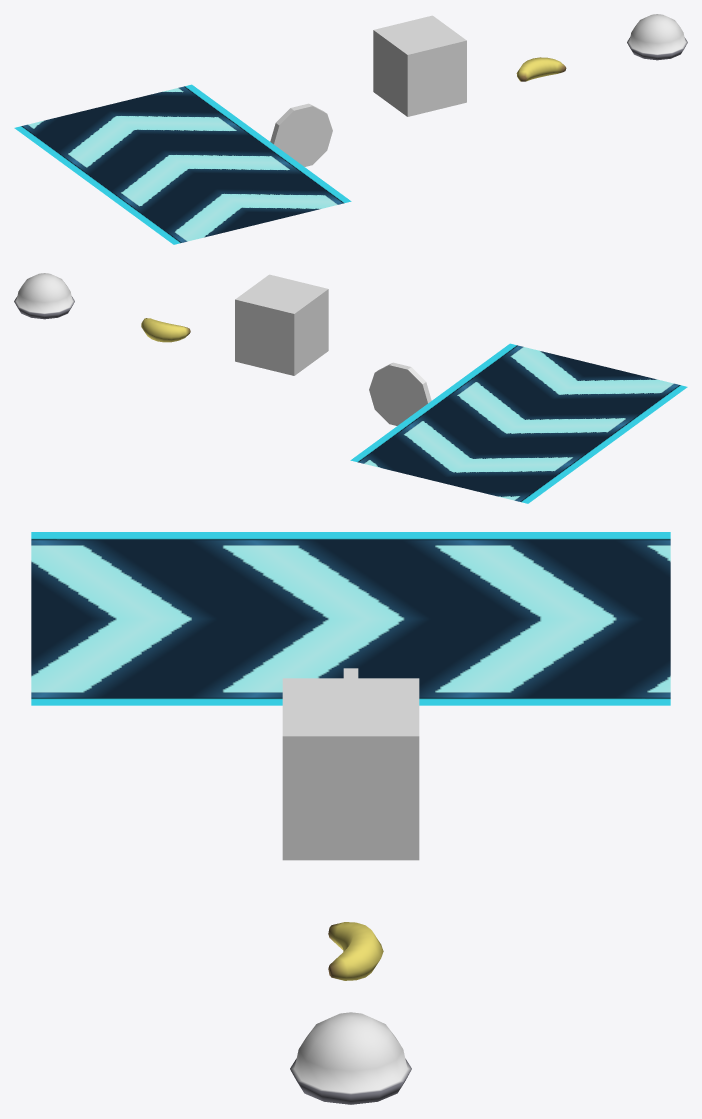
Rendered from pickups.glb.
3 renders of one model, top to bottom at view 1: azimuth 30°, elevation 25°; view 2: azimuth 150°, elevation 25°; view 3: azimuth 270°, elevation 25°, orthographic. The views are drawn at different scales.
Visible parts, largest first — view 1: BoostPad, ItemBox, Coin, Orb, Banana; view 2: BoostPad, ItemBox, Coin, Orb, Banana; view 3: BoostPad, ItemBox, Orb, Banana.
Boxes of the visible parts, x1,y1,x2,y2 form: BoostPad: [14, 84, 351, 244]; ItemBox: [373, 15, 466, 116]; Coin: [270, 103, 332, 166]; Orb: [627, 14, 687, 60]; Banana: [516, 57, 566, 81]; BoostPad: [350, 343, 687, 503]; ItemBox: [235, 274, 328, 375]; Coin: [369, 362, 431, 425]; Orb: [14, 273, 74, 319]; Banana: [141, 318, 190, 342]; BoostPad: [31, 532, 670, 705]; ItemBox: [282, 678, 419, 860]; Orb: [290, 1012, 411, 1104]; Banana: [328, 922, 383, 980].
Bounding box in the file's own units: 14.92 × 2.46 × 7.
5 materials, 1 textured.
